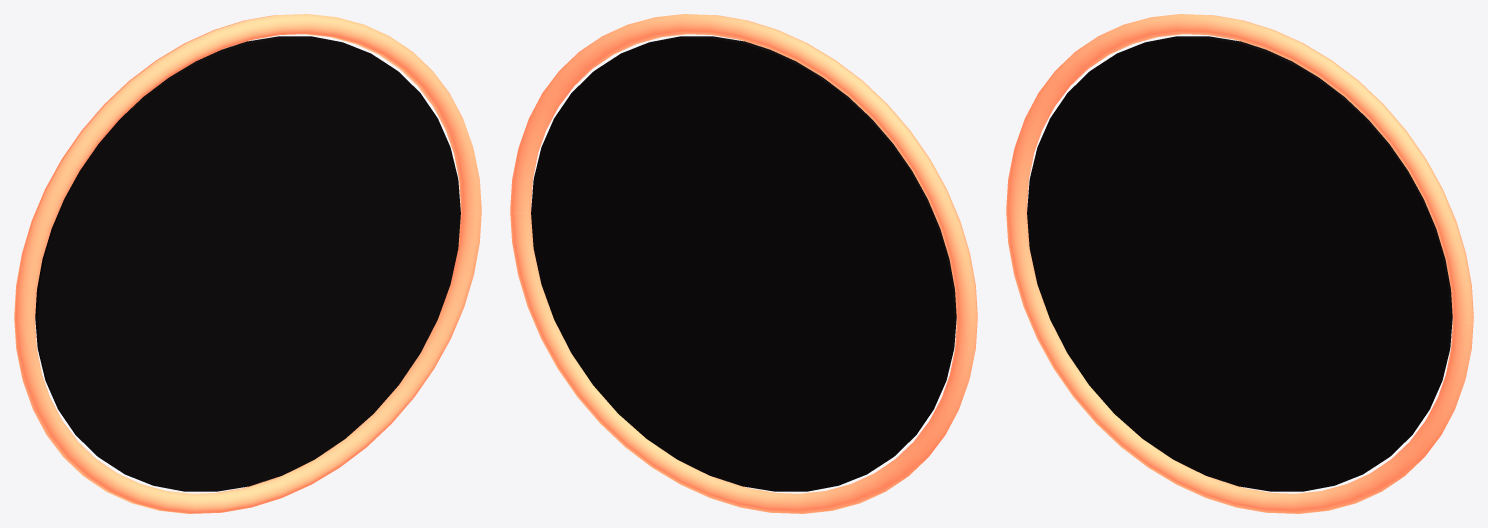
Rendered from red.glb.
3 renders of one model, left to right at view 1: azimuth 30°, elevation 25°; view 2: azimuth 150°, elevation 25°; view 3: azimuth 330°, elevation 25°, orthographic.
Visible parts, largest first — view 1: LOD0._color_0a0508_emissive_null_emis, LOD0._color_ff8a6a_emissive_ff5a3a_; view 2: LOD0._color_0a0508_emissive_null_emis, LOD0._color_ff8a6a_emissive_ff5a3a_; view 3: LOD0._color_0a0508_emissive_null_emis, LOD0._color_ff8a6a_emissive_ff5a3a_.
Part boxes in pixels (x1,y1,x2,y2): LOD0._color_0a0508_emissive_null_emis: [35, 36, 460, 491]; LOD0._color_ff8a6a_emissive_ff5a3a_: [14, 14, 481, 513]; LOD0._color_0a0508_emissive_null_emis: [531, 36, 956, 491]; LOD0._color_ff8a6a_emissive_ff5a3a_: [510, 14, 977, 513]; LOD0._color_0a0508_emissive_null_emis: [1027, 36, 1452, 491]; LOD0._color_ff8a6a_emissive_ff5a3a_: [1006, 14, 1473, 513].
Size of what is drawn, in the model's own units: 396 by 396 by 16.
